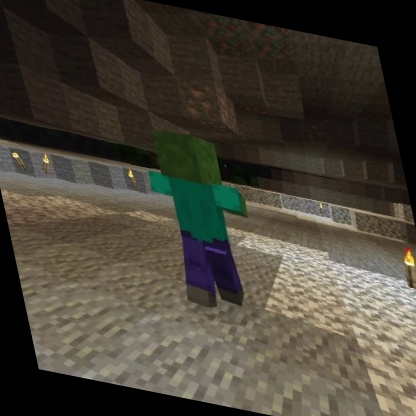zombie: (131, 120, 275, 324)
